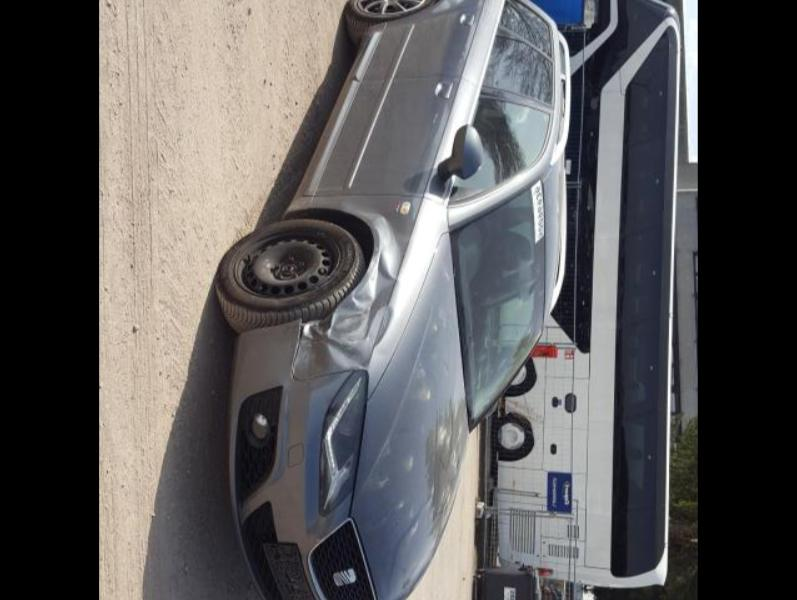Broken part: (292, 308, 336, 366)
Dent: (286, 212, 402, 392)
Missing part: (234, 226, 340, 298), (266, 542, 313, 600)
